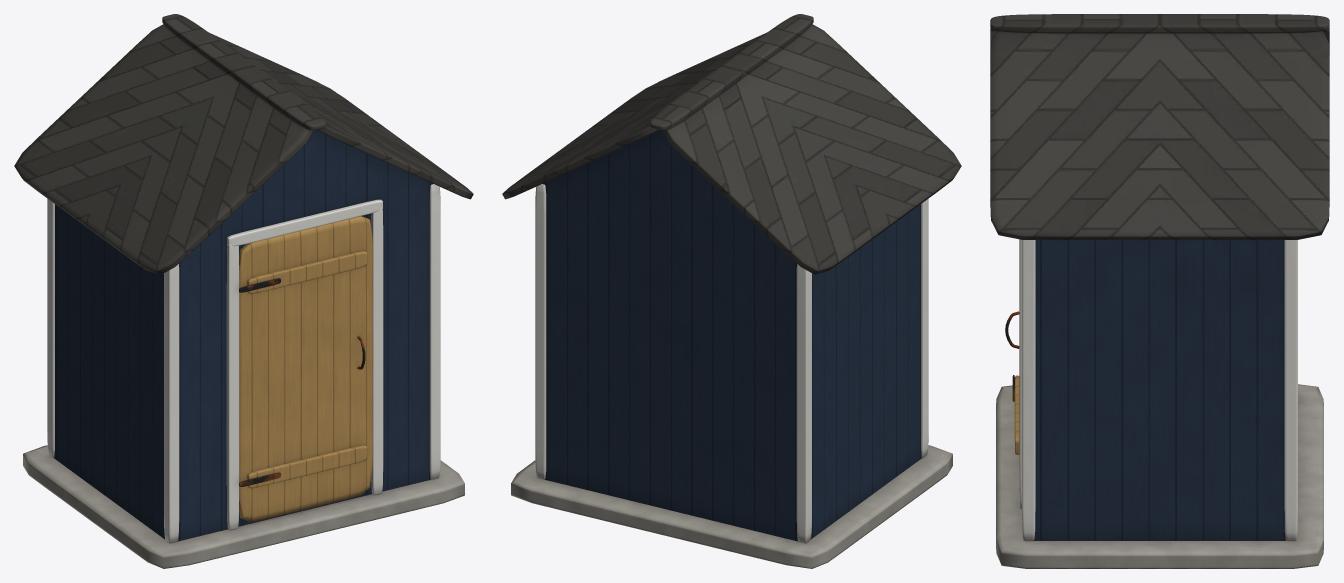
Rendered from navy-small.glb.
3 views of the same model, side by side, from view 1: azimuth 30°, elevation 25°; view 2: azimuth 150°, elevation 25°; view 3: azimuth 270°, elevation 25° (orthographic). The views are drawn at different scales.
Visible parts, largest first — view 1: paint_primary_siding, roof_shingle, paint_secondary_door, trim_white, concrete, iron; view 2: paint_primary_siding, roof_shingle, concrete, trim_white; view 3: roof_shingle, paint_primary_siding, concrete, trim_white, paint_secondary_door.
Boxes of the visible parts, x1,y1,x2,y2 form: paint_primary_siding: [54, 129, 432, 541]; roof_shingle: [14, 14, 473, 274]; paint_secondary_door: [239, 216, 372, 521]; trim_white: [47, 184, 440, 543]; concrete: [23, 445, 464, 568]; iron: [239, 278, 365, 486]; paint_primary_siding: [543, 129, 921, 541]; roof_shingle: [502, 14, 961, 274]; concrete: [511, 445, 952, 568]; trim_white: [535, 184, 928, 543]; roof_shingle: [990, 14, 1329, 240]; paint_primary_siding: [1033, 240, 1285, 540]; concrete: [996, 384, 1323, 568]; trim_white: [1019, 239, 1297, 541]; paint_secondary_door: [1014, 239, 1019, 492].
Size of the model in its own units: 2.18 by 2.66 by 1.76.
6 materials, 6 textured.
